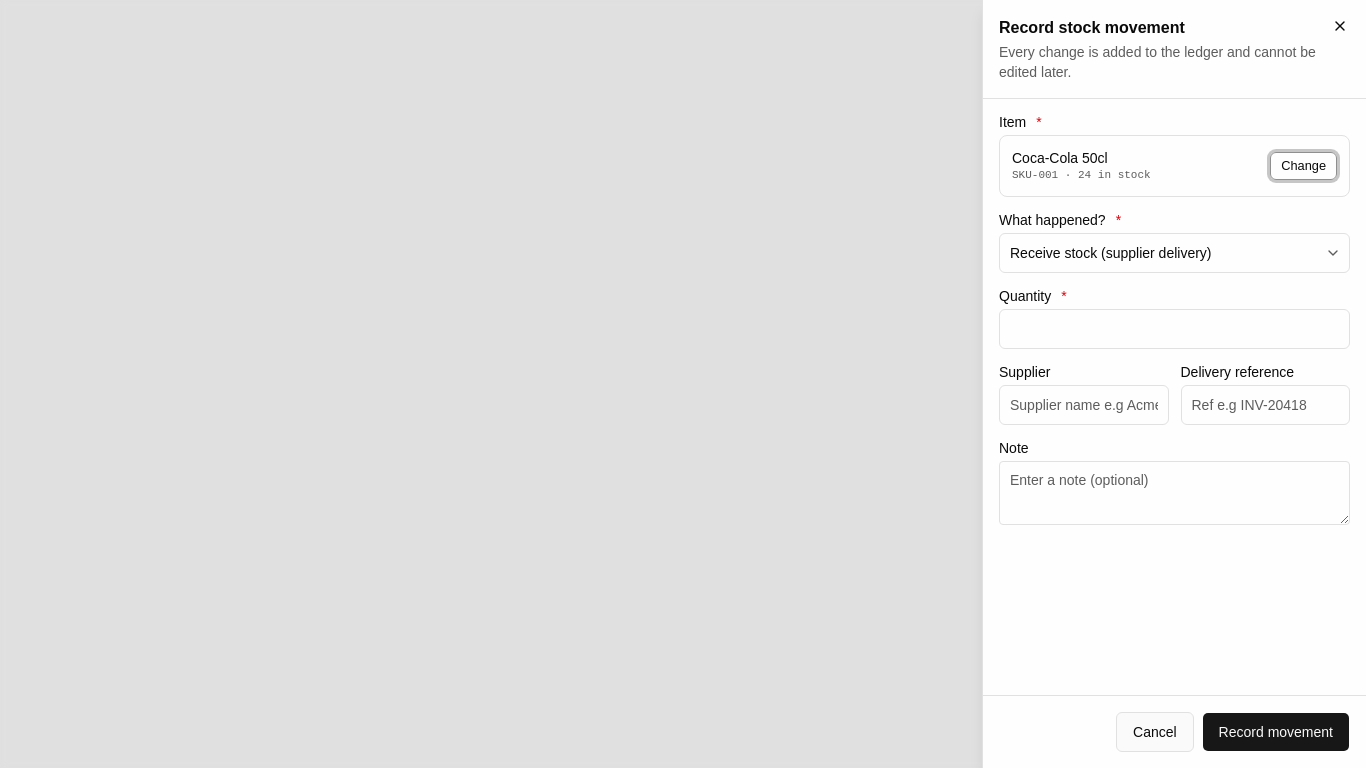
RecordMovementDrawer › maps insufficient stock errors to the quantity field and toast
The width and height of the screenshot is (1366, 768).
Expected: the text "SKU-001 · 24 in stock" is shown, x1=1012 y1=168 x2=1151 y2=184
Type "5" into the number field labelled "Quantity" at (1174, 329), box x1=1000 y1=309 x2=1349 y2=349
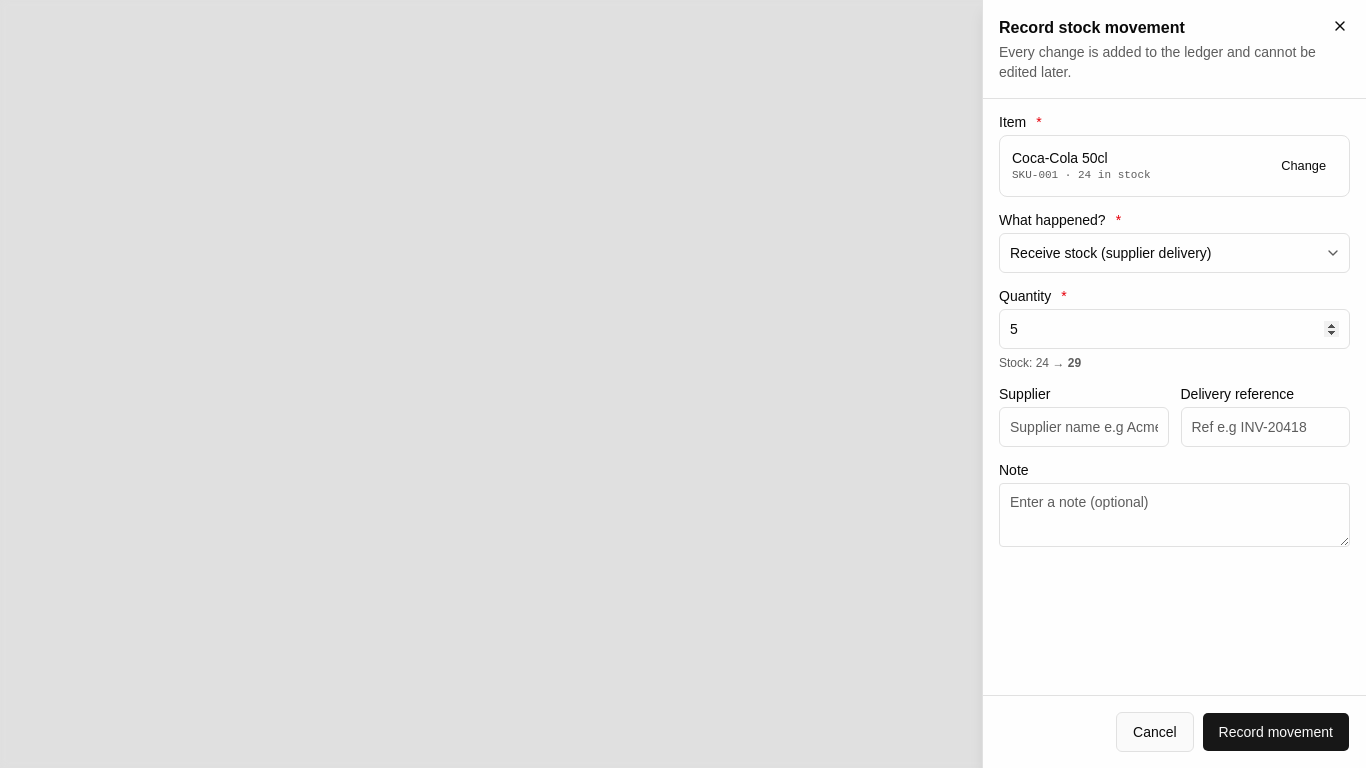
Click the button "Record movement" at (1276, 732), box x1=1202 y1=712 x2=1350 y2=752
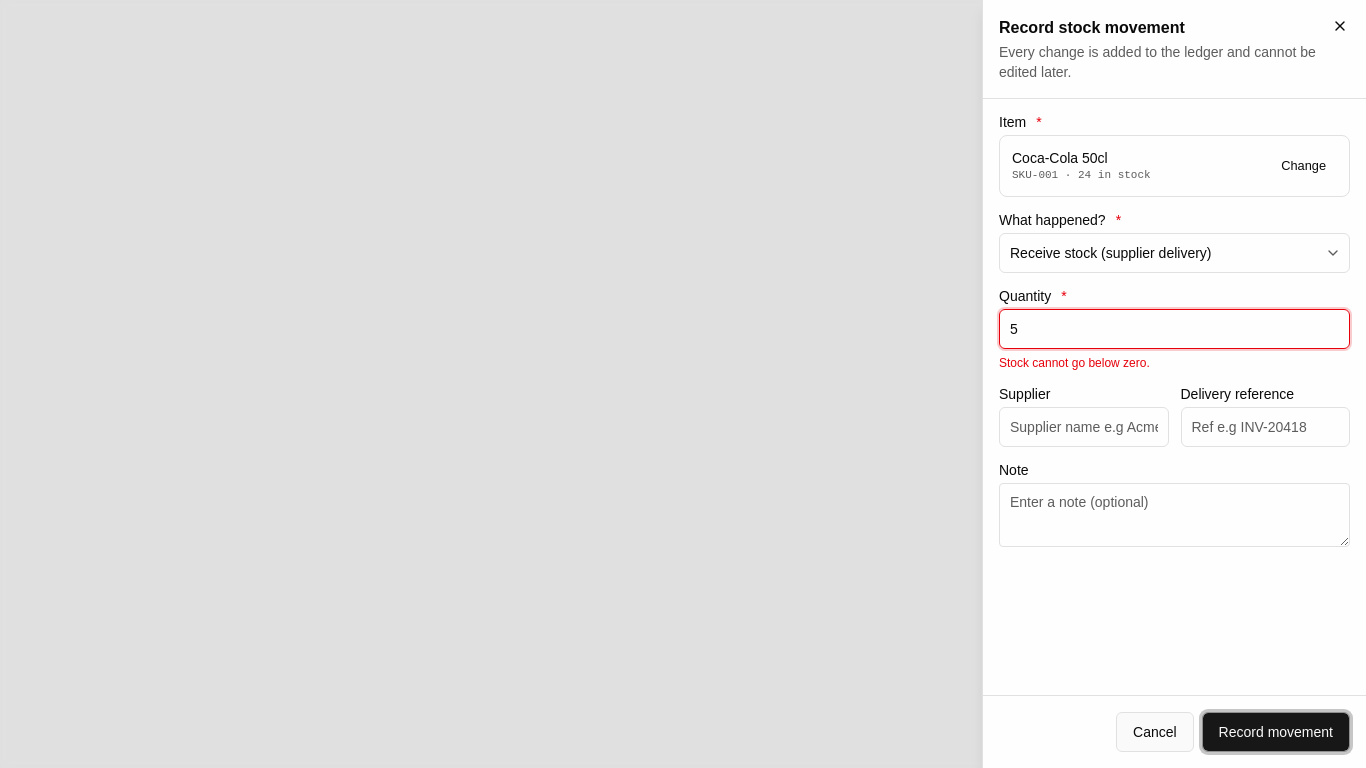
Result: the text "Stock cannot go below zero." is shown at x1=999 y1=356 x2=1150 y2=370
